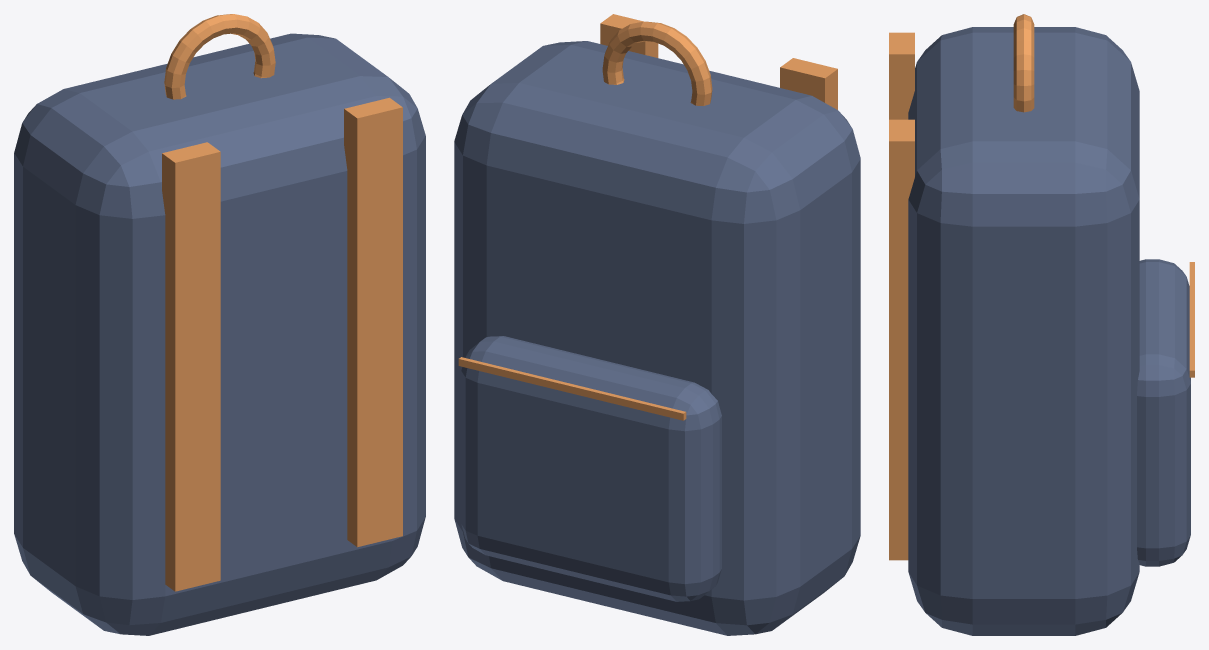
The model's file is s20-tas-ransel.glb.
The picture shows the model from 3 angles, left to right: view 1: azimuth 30°, elevation 25°; view 2: azimuth 150°, elevation 25°; view 3: azimuth 270°, elevation 25°; orthographic projection. The views are drawn at different scales.
Visible parts, largest first — view 1: EX_unri:tas-kain, EX_unri:tas-aksen; view 2: EX_unri:tas-kain, EX_unri:tas-aksen; view 3: EX_unri:tas-kain, EX_unri:tas-aksen.
Part boxes in pixels (left/top/right/bottom): EX_unri:tas-kain: left=14, top=33, right=425, bottom=635; EX_unri:tas-aksen: left=162, top=14, right=402, bottom=591; EX_unri:tas-kain: left=454, top=41, right=860, bottom=635; EX_unri:tas-aksen: left=458, top=14, right=837, bottom=420; EX_unri:tas-kain: left=908, top=27, right=1190, bottom=635; EX_unri:tas-aksen: left=889, top=14, right=1194, bottom=560.
Size of the model in its own units: 0.3 by 0.478 by 0.238.
